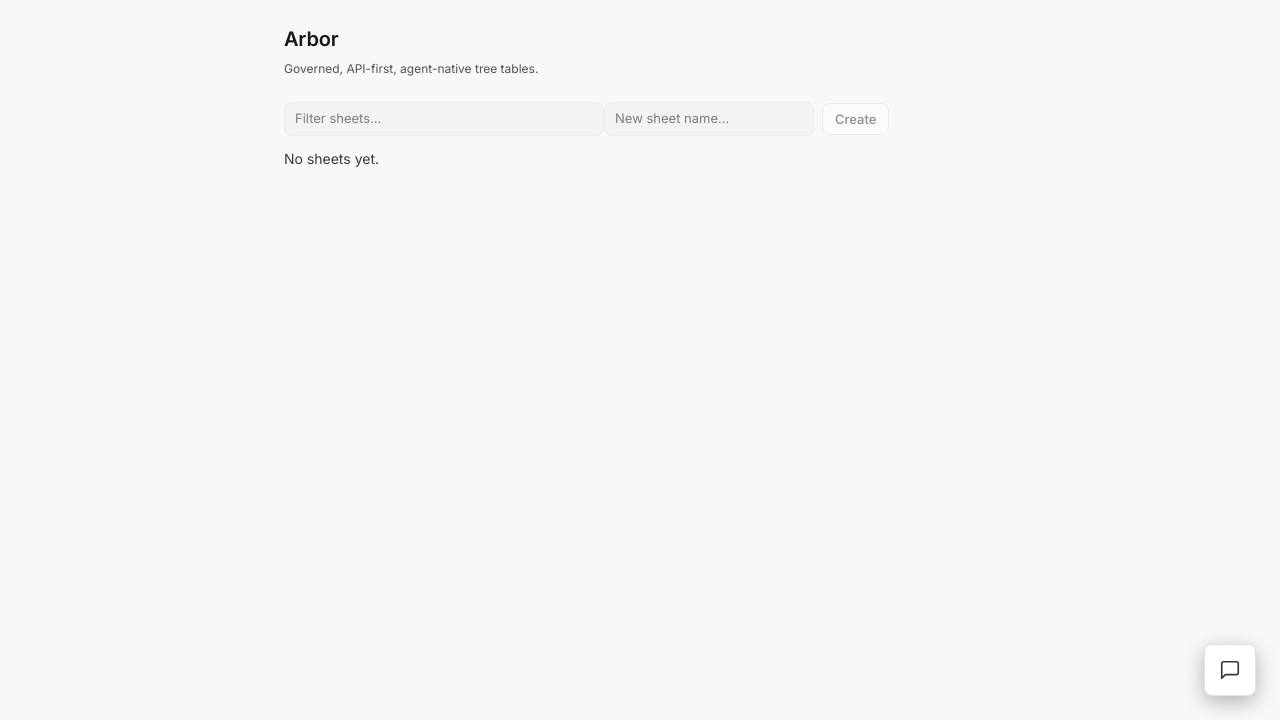
Test: SheetList › surfaces a duplicate-name error gracefully without navigating (PART D)
The width and height of the screenshot is (1280, 720).
Check: the text "No sheets yet." is shown, box [284,150,379,166]
Step 1. Type "Dup" into the field with test id "new-sheet-name" → point(709, 119), box [604,102,814,136]
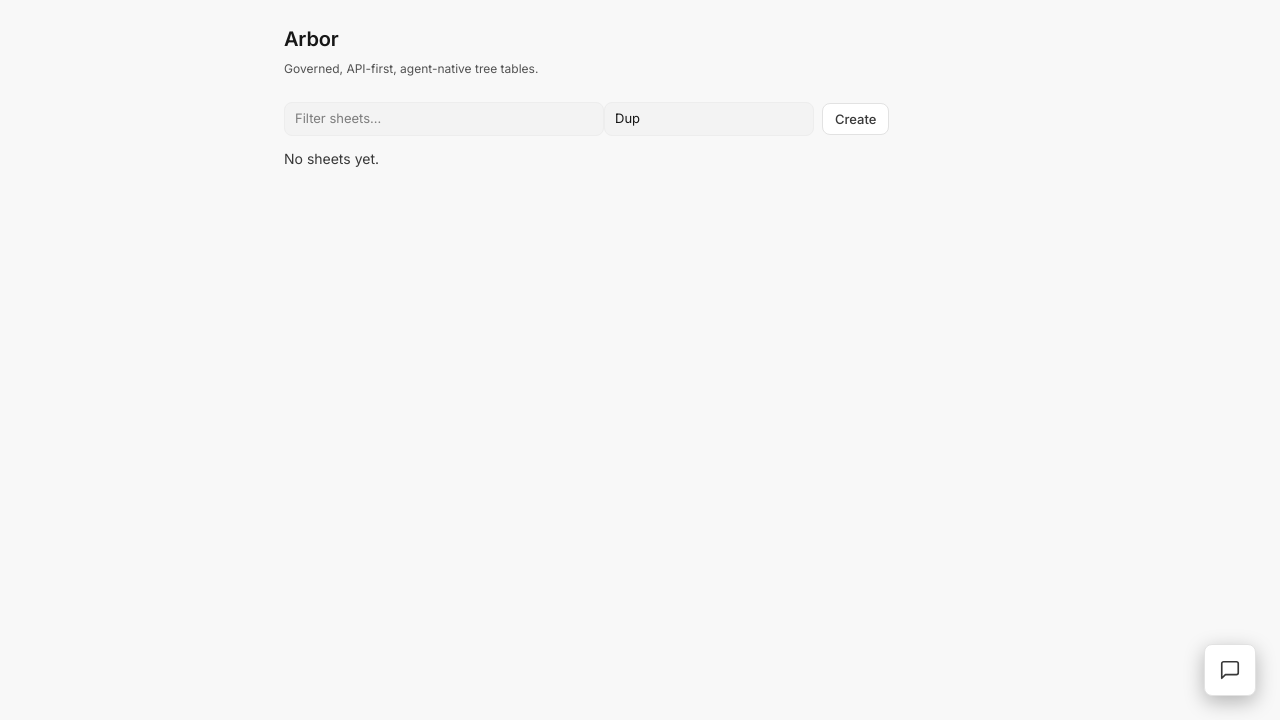
Step 2. Click the button with test id "new-sheet-create" → point(856, 119), box [822,103,889,135]
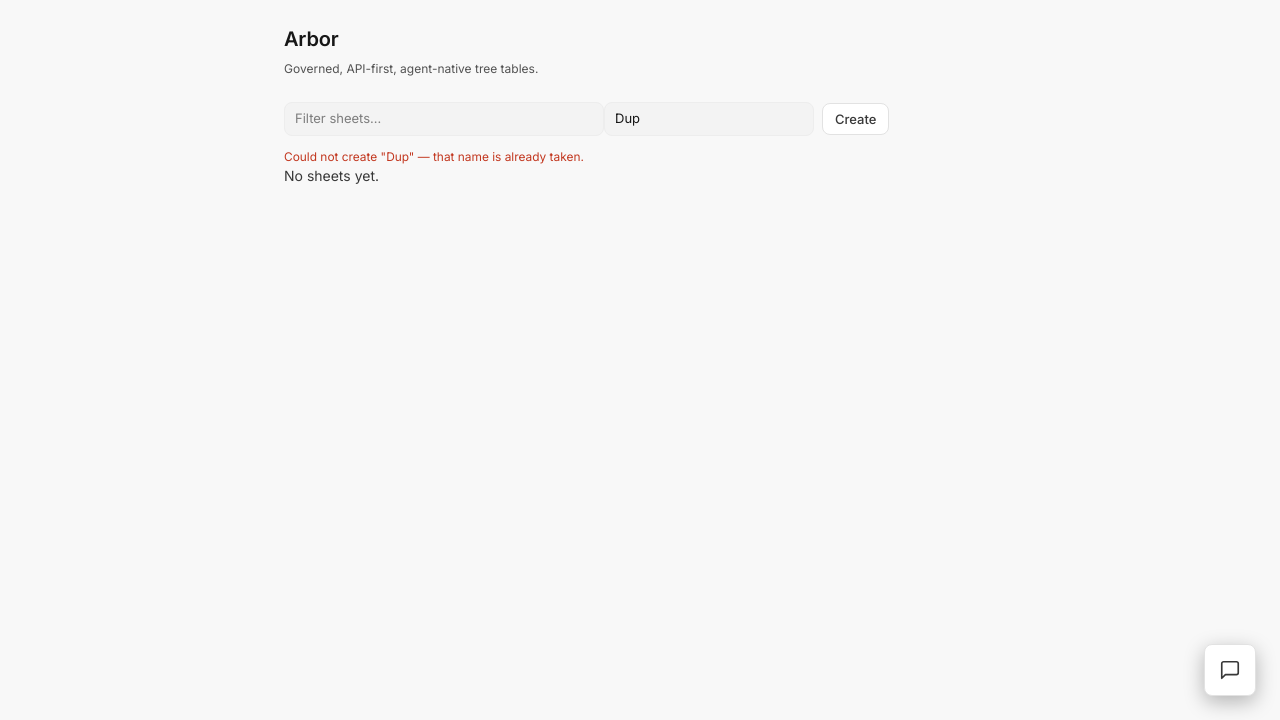
Check: the message "Could not create \"Dup\" — that name is already taken." is shown, box [284,148,584,164]
